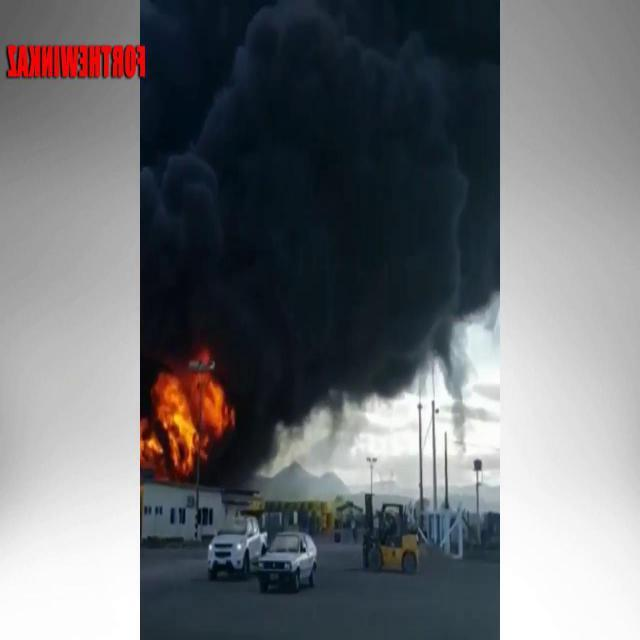Fire: (141, 340, 237, 482)
